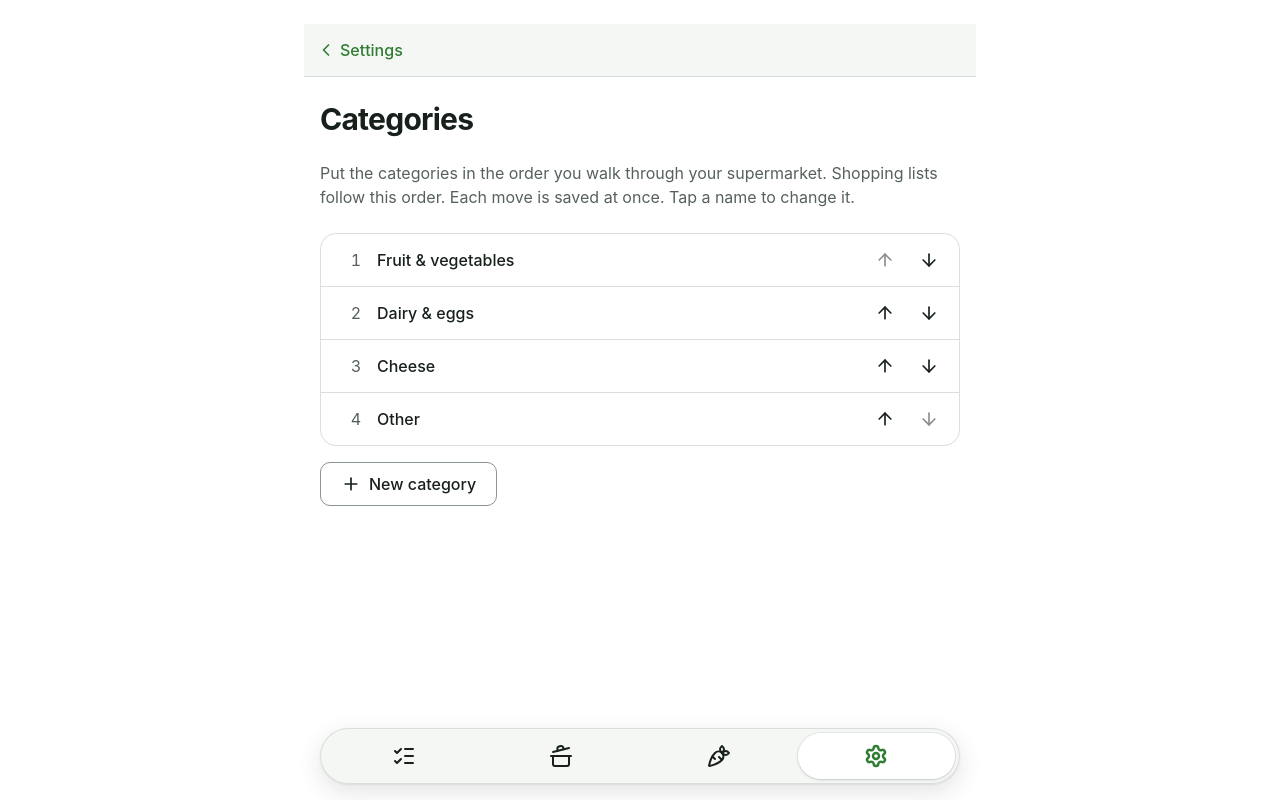
Test: AdminCategoriesScreen › adds a category at the end of the list (REF-01)
Expected: the list with test id "admin-category-list" is shown, [320,233,960,446]
Step 1. Click the button with test id "new-category" → [409, 484], box [320,462,497,506]
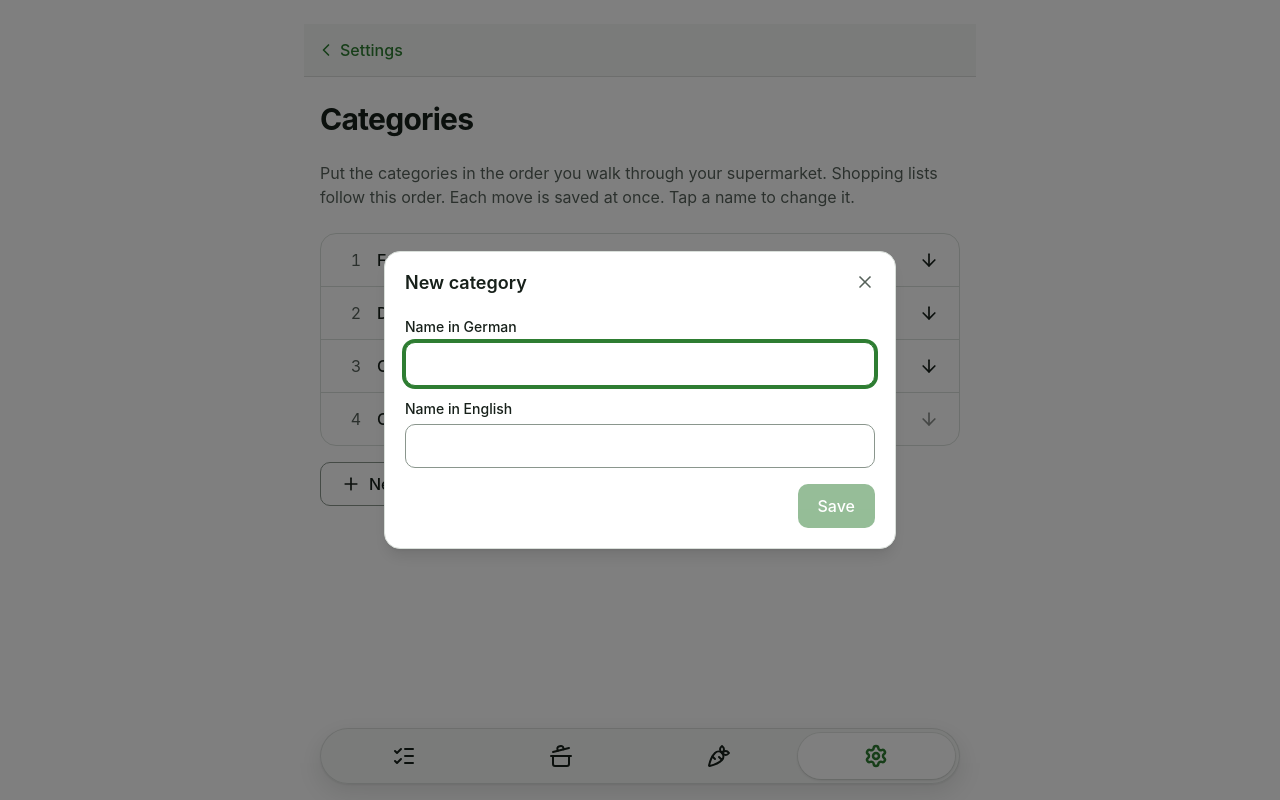
Now the field labelled "Name in German" is empty
Now the field labelled "Name in English" is empty, box [405,424,875,468]
Now the button "Save" is disabled, box [798,484,875,528]
Step 2. Type " Käsetheke " into the field labelled "Name in German" → [640, 364], box [405,342,875,386]
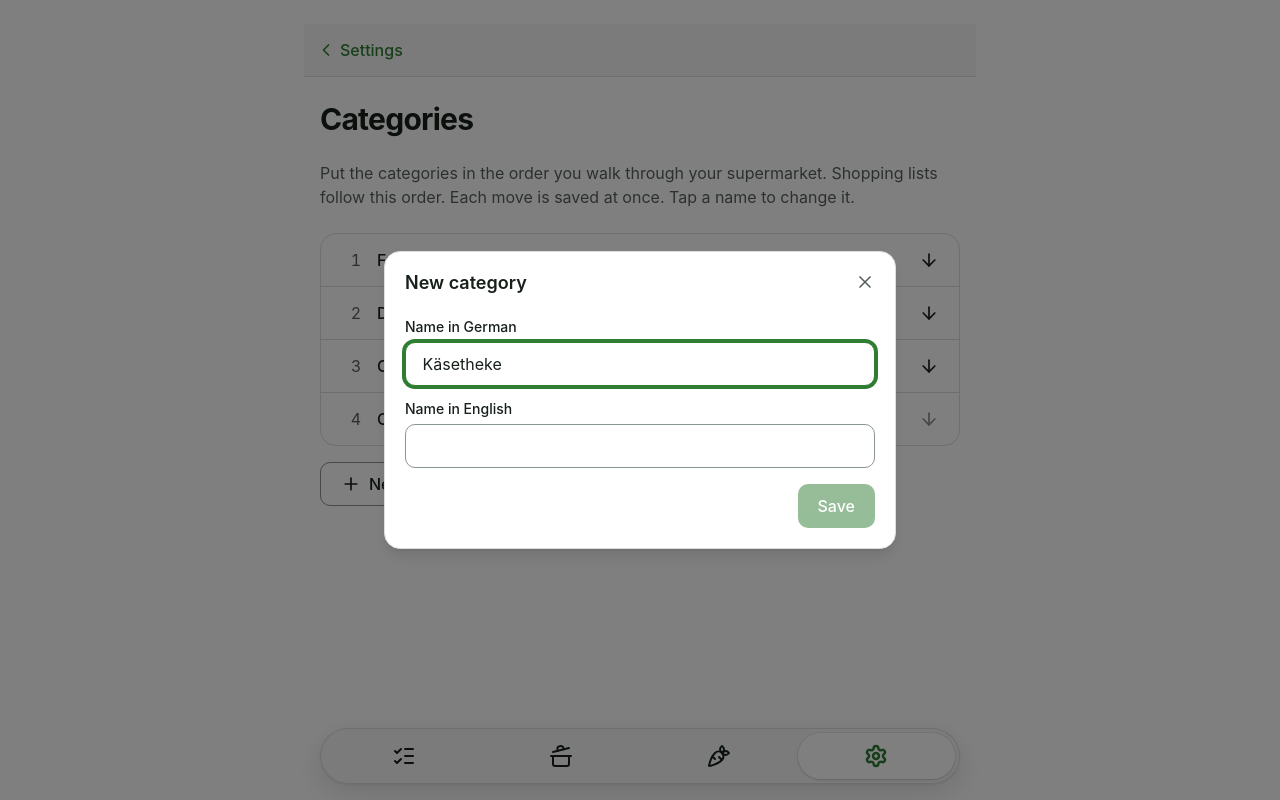
Now the button "Save" is disabled, box [798,484,875,528]
Step 3. Type "Cheese counter" into the field labelled "Name in English" → [640, 446], box [405,424,875,468]
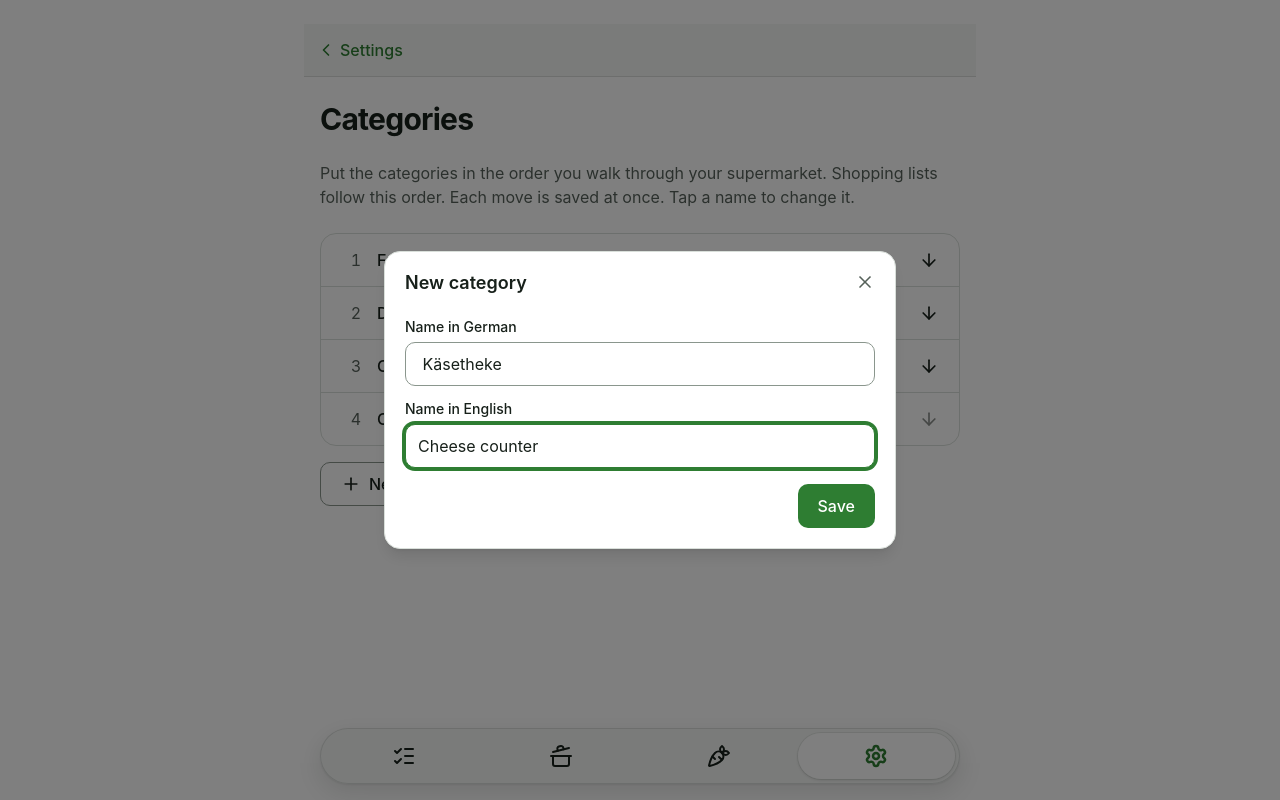
Step 4. Click the button "Save" → [836, 506], box [798,484,875,528]
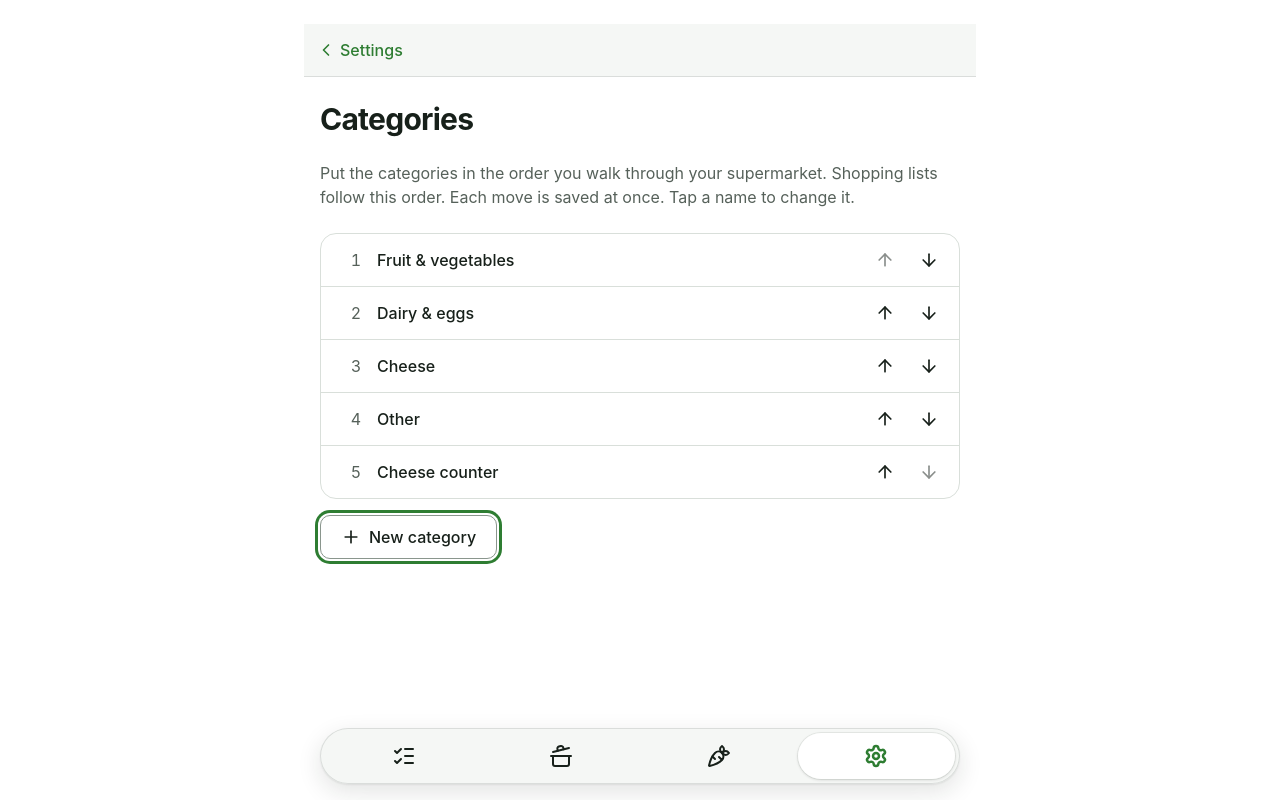
Now the dialog is gone
Now the button named "Move Cheese counter up" is enabled, box [863,450,907,494]
